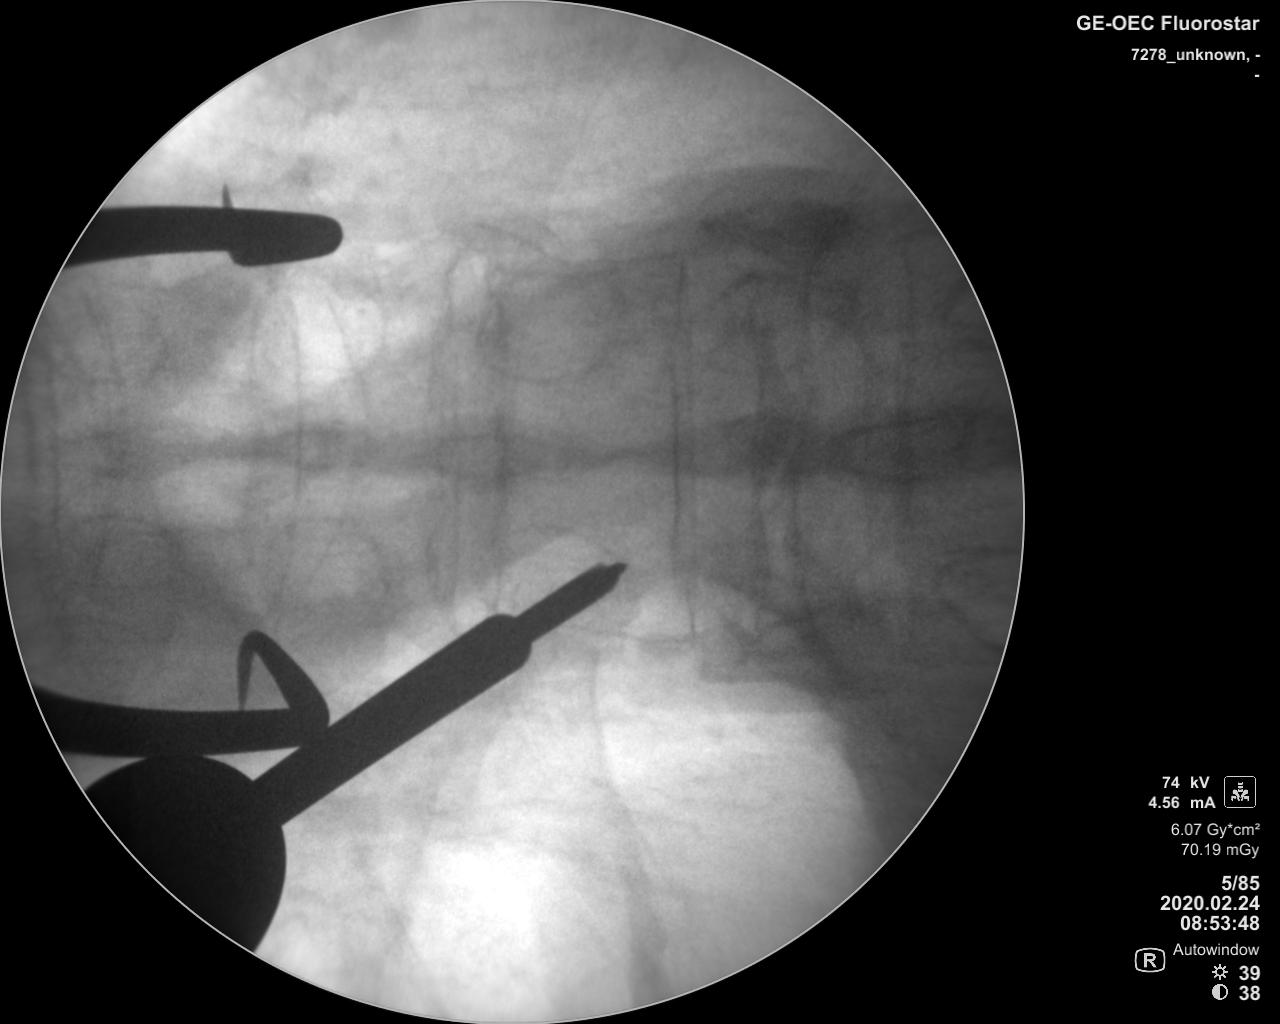eyes: (243, 514, 396, 622), (480, 265, 621, 373), (252, 276, 395, 377), (56, 511, 177, 618)
line: (243, 265, 310, 619), (660, 237, 709, 651), (424, 251, 467, 622)
nose: (628, 406, 818, 491), (413, 419, 584, 493), (208, 409, 371, 481), (829, 414, 993, 485), (51, 421, 203, 481)
